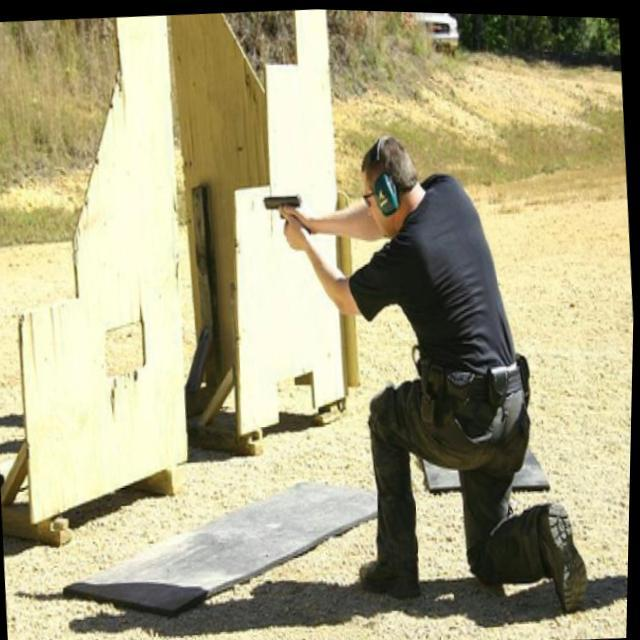weapon: (262, 188, 314, 235)
